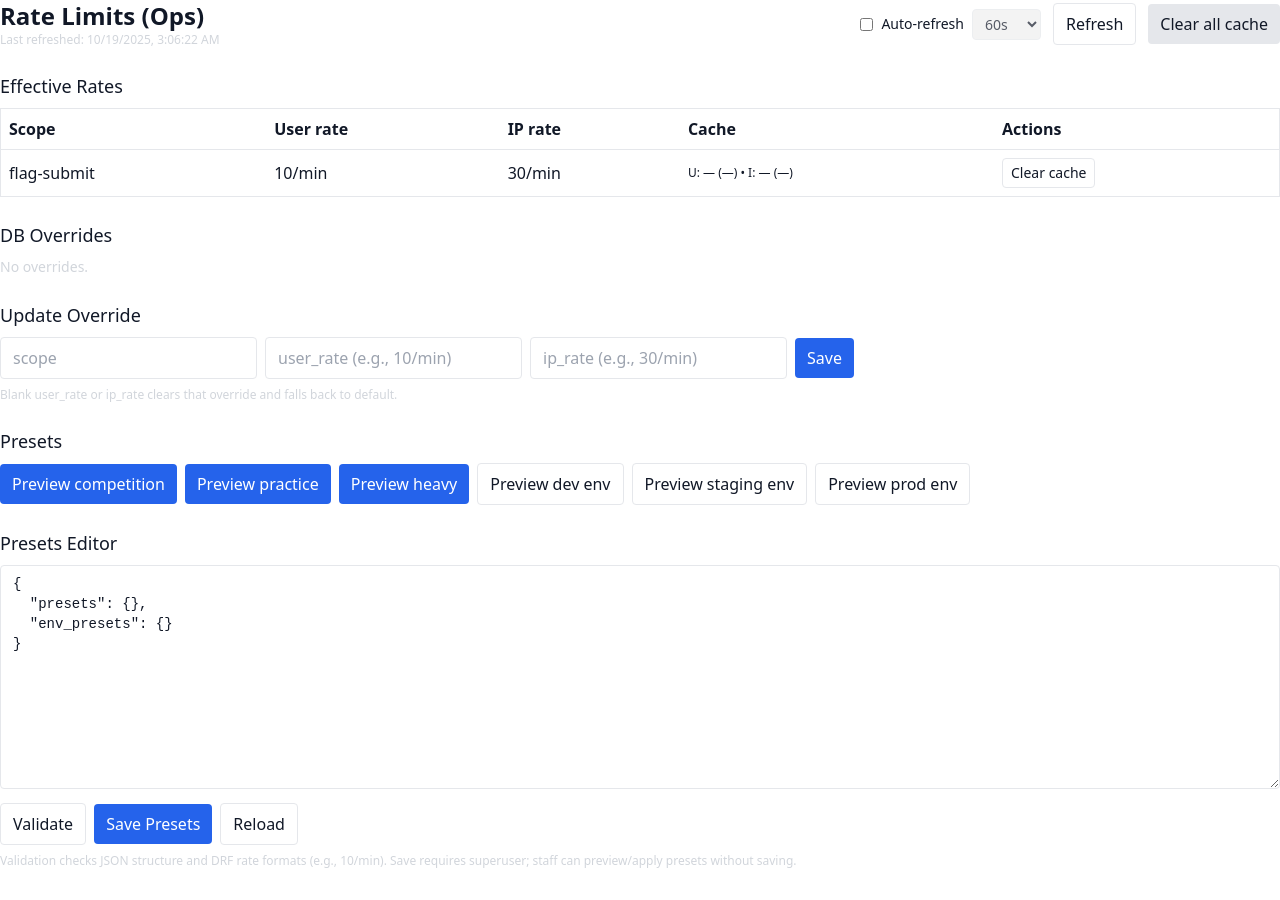
Ops Rate Limits actions › Per-scope Clear cache posts to cache endpoint and shows success (Effective Rates row)
Expected: the heading "Rate Limits (Ops)" is shown, [0, 0, 220, 32]
Click the button "Clear cache" at (1049, 173), box [1002, 158, 1096, 188]
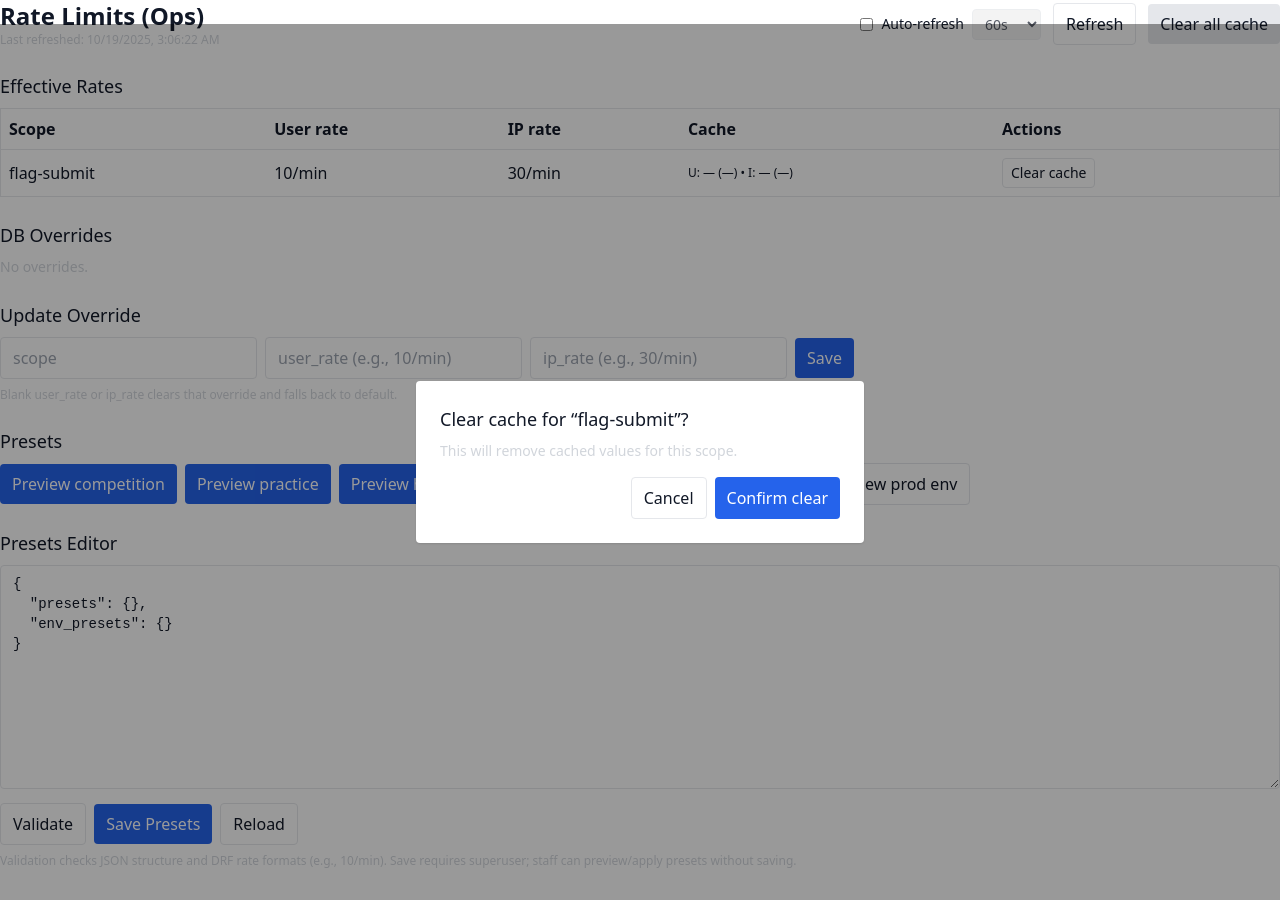
# Confirm modal: click Confirm clear
Click the button "Confirm clear" at (777, 498), box [714, 477, 840, 519]
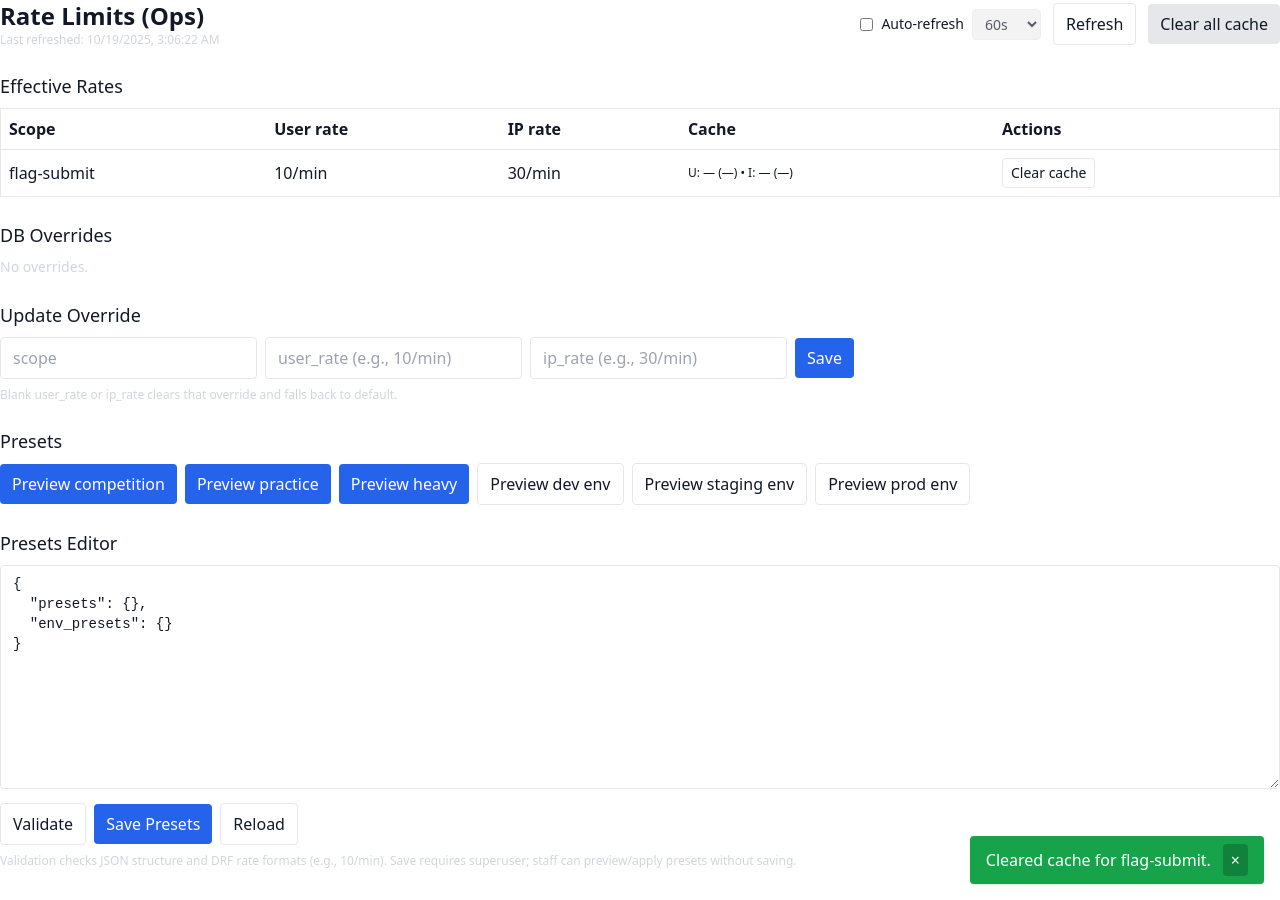
Expected: the text "Cleared cache for flag-submit." is shown, [986, 848, 1211, 872]
